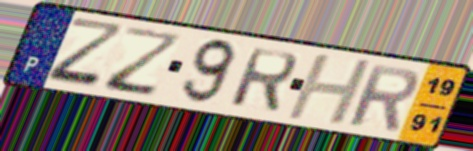9: (177, 36, 241, 107)
H: (282, 53, 376, 127)
R: (346, 61, 422, 134), (226, 46, 300, 116)
Z: (43, 15, 130, 92), (101, 24, 186, 100)
